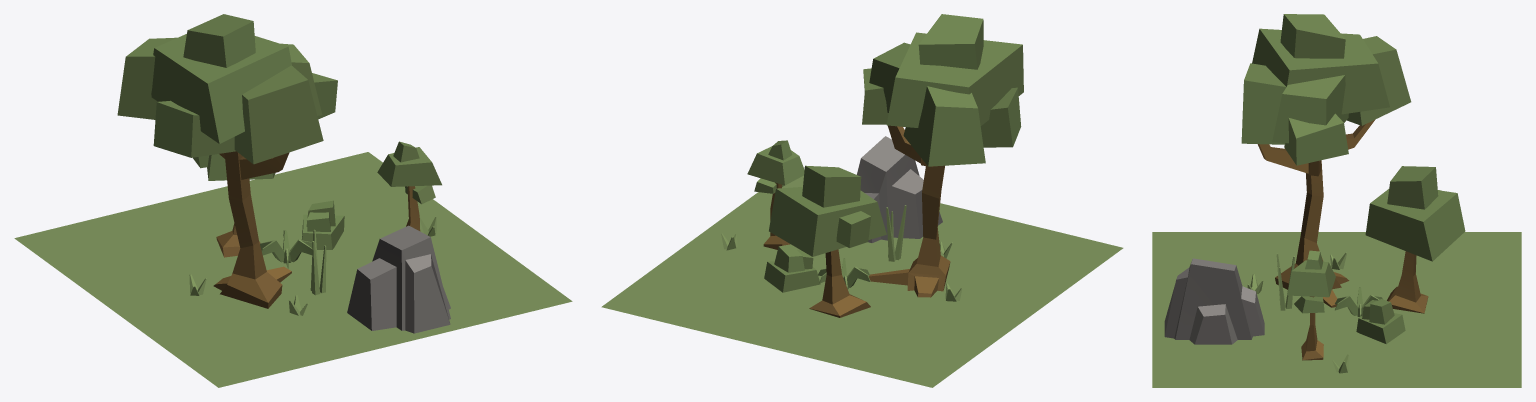
Rendered from SA_Env_ForestTile_03.gltf.
3 renders of one model, left to right at view 1: azimuth 30°, elevation 25°; view 2: azimuth 150°, elevation 25°; view 3: azimuth 270°, elevation 25°, orthographic. The views are drawn at different scales.
Visible parts, largest first — view 1: SA_Env_ForestTile_03; view 2: SA_Env_ForestTile_03; view 3: SA_Env_ForestTile_03.
Part boxes in pixels (x1,y1,x2,y2): SA_Env_ForestTile_03: (14,14,572,387); SA_Env_ForestTile_03: (601,14,1123,387); SA_Env_ForestTile_03: (1152,14,1521,387).
Size of the model in its own units: 15 by 11.54 by 15.
1 material, 1 textured.
